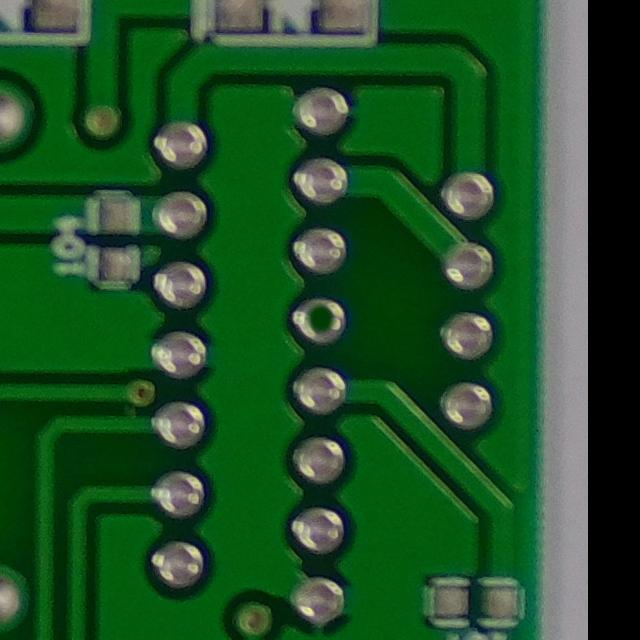missing_hole: (285, 290, 356, 350)
